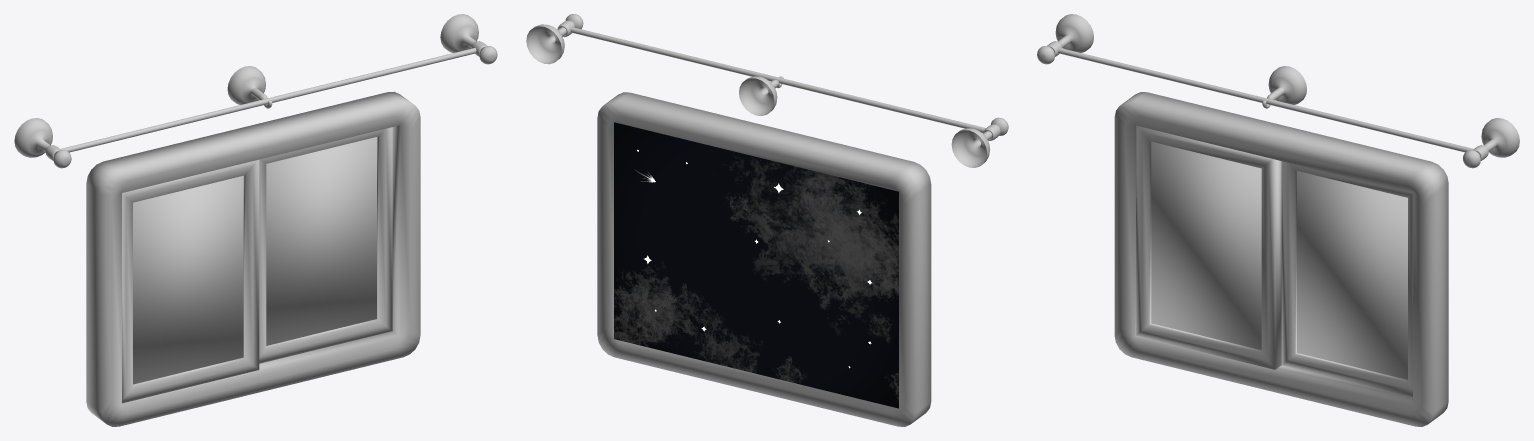
Rendered from Ventanas.fbx.
The picture shows the model from 3 angles, left to right: view 1: azimuth 30°, elevation 25°; view 2: azimuth 150°, elevation 25°; view 3: azimuth 330°, elevation 25°; orthographic projection.
Parts seen in each view (by area): view 1: Cube.002, Cube, Cube.001, Cube.004; view 2: Cube.003, Cube.002, Cube.004; view 3: Cube.002, Cube, Cube.001, Cube.004.
Boxes of the visible parts, left/top/right/bottom form: Cube.002: left=86, top=91, right=420, bottom=426; Cube: left=122, top=159, right=259, bottom=403; Cube.001: left=259, top=127, right=392, bottom=363; Cube.004: left=14, top=14, right=497, bottom=168; Cube.003: left=614, top=122, right=898, bottom=408; Cube.002: left=597, top=92, right=931, bottom=426; Cube.004: left=526, top=14, right=1008, bottom=167; Cube.002: left=1114, top=92, right=1448, bottom=426; Cube: left=1136, top=125, right=1281, bottom=369; Cube.001: left=1281, top=161, right=1413, bottom=396; Cube.004: left=1037, top=14, right=1519, bottom=168.
Size of the model in its own units: 407 by 264 by 51.96.
